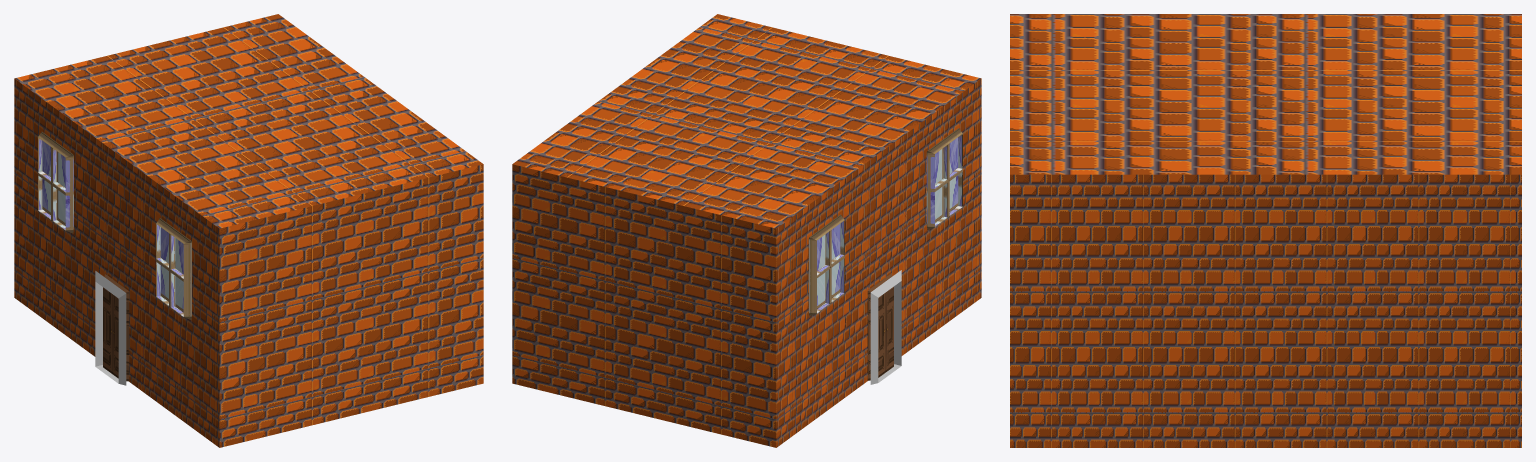
File: PrimerPiso.FBX
The picture shows the model from 3 angles, left to right: view 1: azimuth 30°, elevation 25°; view 2: azimuth 150°, elevation 25°; view 3: azimuth 270°, elevation 25°; orthographic projection. The views are drawn at different scales.
Parts seen in each view (by area): view 1: Box001, Torus001, Rectangle002, Rectangle001; view 2: Box001, Torus001, Rectangle002, Rectangle001; view 3: Box001.
Part boxes in pixels (<box>): Box001: <box>14,14,483,447</box>; Torus001: <box>38,131,191,319</box>; Rectangle002: <box>95,271,126,385</box>; Rectangle001: <box>103,274,129,381</box>; Box001: <box>512,14,981,447</box>; Torus001: <box>808,128,962,316</box>; Rectangle002: <box>870,270,901,384</box>; Rectangle001: <box>867,273,893,380</box>; Box001: <box>1010,14,1521,447</box>.
Size of the model in its own units: 11.72 by 8.94 by 15.16.
